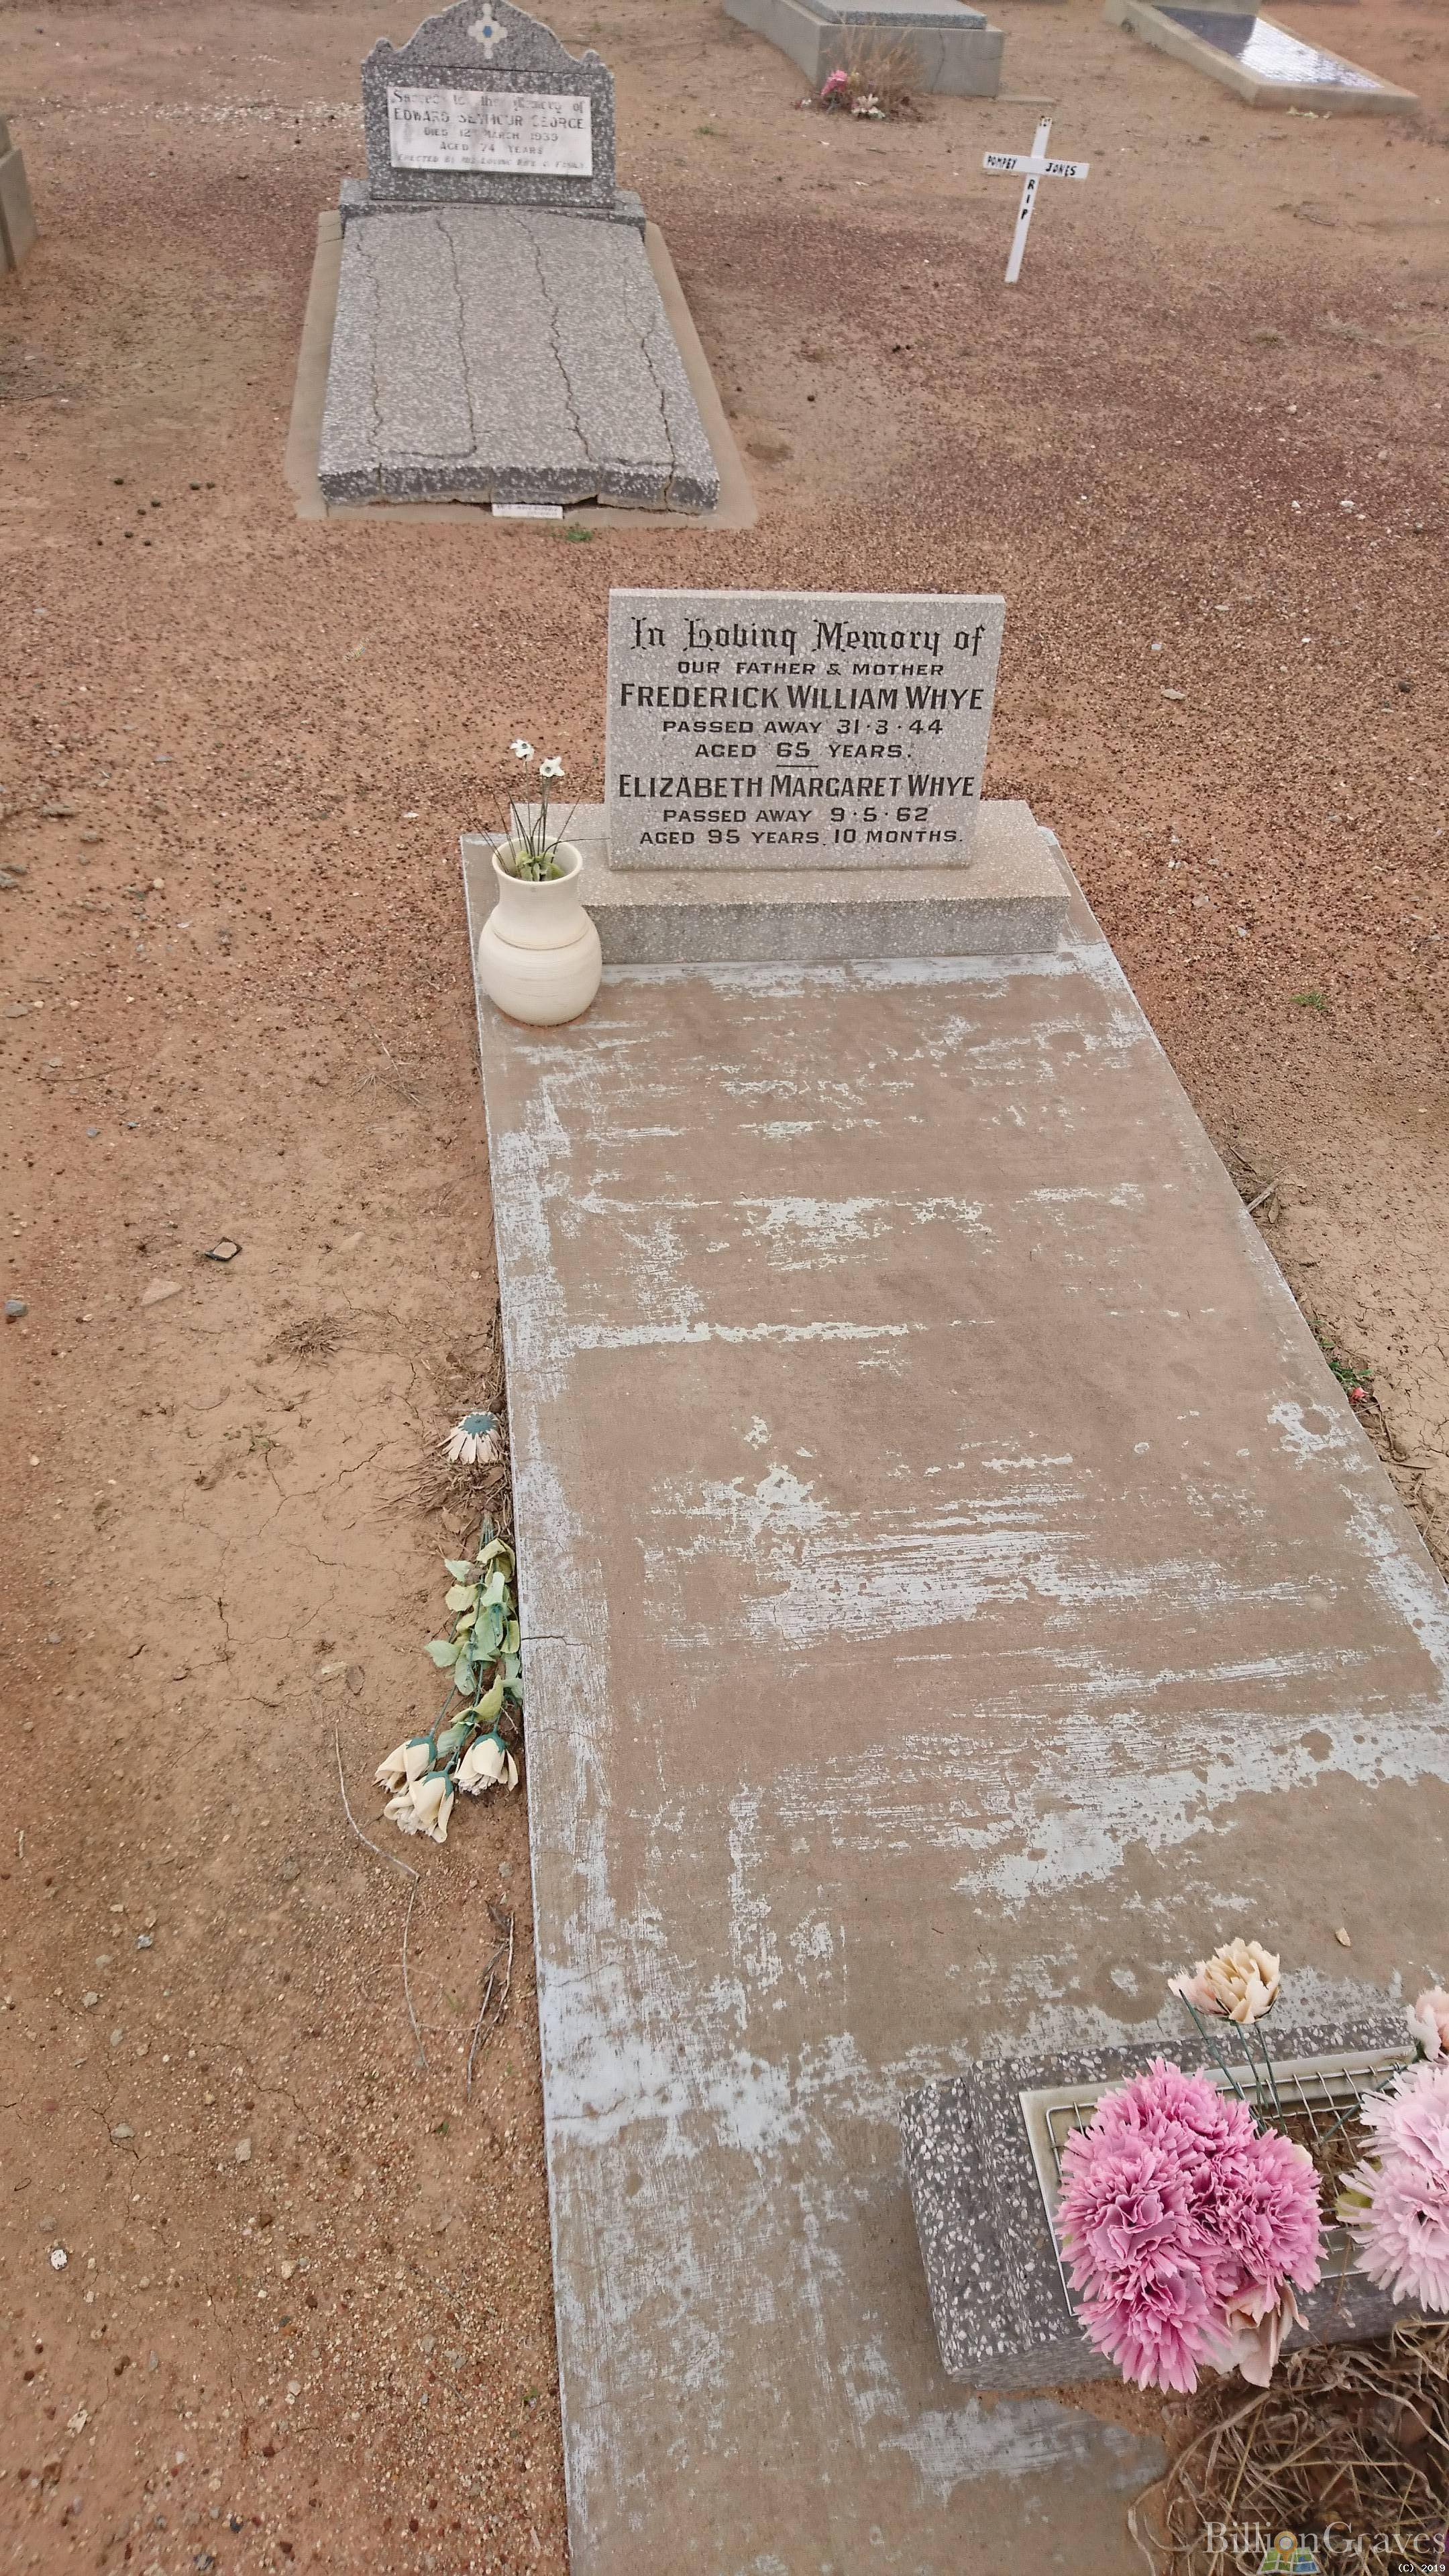vault: (456, 570, 1449, 2565)
